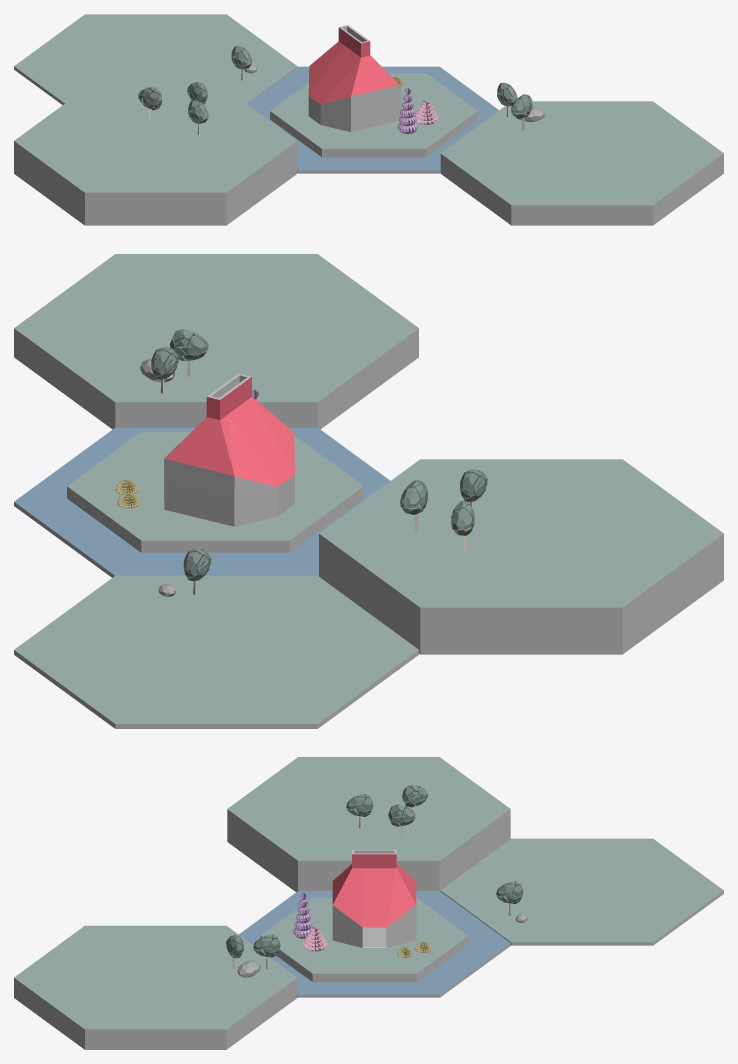
Rendered from litelandscene.fbx.
The picture shows the model from 3 angles, top to bottom: view 1: azimuth 30°, elevation 25°; view 2: azimuth 150°, elevation 25°; view 3: azimuth 270°, elevation 25°; orthographic projection. The views are drawn at different scales.
Visible parts, largest first — view 1: ground3, ground2, ground4, groundbase, house_5, ground1, Fir_3, tree_3_5, tree_3_2, tree_3_4, tree_3, Fir_2 (+1 smaller); view 2: ground3, ground2, ground4, groundbase, house_5, ground1, tree_3_2, tree_3_6, tree_3_3, tree_3, tree_3_4; view 3: ground2, ground3, ground4, groundbase, ground1, house_5, Fir_3, tree_3_3, tree_3, tree_3_4, tree_3_6, tree_3_5.
Part boxes in pixels (left/top/right/bottom): ground3: left=14, top=89, right=297, bottom=225; ground2: left=440, top=101, right=723, bottom=225; ground4: left=14, top=14, right=297, bottom=104; groundbase: left=270, top=73, right=477, bottom=157; house_5: left=308, top=25, right=400, bottom=131; ground1: left=247, top=66, right=498, bottom=173; Fir_3: left=397, top=88, right=418, bottom=133; tree_3_5: left=138, top=87, right=162, bottom=120; tree_3_2: left=511, top=94, right=532, bottom=129; tree_3_4: left=188, top=100, right=208, bottom=134; tree_3: left=231, top=46, right=251, bottom=80; Fir_2: left=414, top=100, right=438, bottom=124; ground3: left=319, top=459, right=723, bottom=654; ground2: left=14, top=254, right=418, bottom=429; ground4: left=14, top=575, right=418, bottom=728; groundbase: left=67, top=431, right=363, bottom=552; house_5: left=164, top=373, right=294, bottom=526; ground1: left=14, top=427, right=390, bottom=577; tree_3_2: left=170, top=329, right=208, bottom=376; tree_3_6: left=400, top=480, right=427, bottom=530; tree_3_3: left=151, top=346, right=178, bottom=393; tree_3: left=183, top=548, right=211, bottom=595; tree_3_4: left=460, top=469, right=487, bottom=509; ground2: left=14, top=925, right=297, bottom=1049; ground3: left=227, top=757, right=510, bottom=892; ground4: left=440, top=838, right=723, bottom=945; groundbase: left=260, top=897, right=468, bottom=982; ground1: left=239, top=891, right=510, bottom=997; house_5: left=332, top=849, right=416, bottom=947; Fir_3: left=293, top=892, right=312, bottom=938; tree_3_3: left=253, top=934, right=280, bottom=969; tree_3: left=496, top=881, right=523, bottom=915; tree_3_4: left=346, top=794, right=373, bottom=828; tree_3_6: left=388, top=804, right=415, bottom=837; tree_3_5: left=402, top=785, right=427, bottom=816.
Size of the model in its own units: 6508 by 1031 by 7514.
